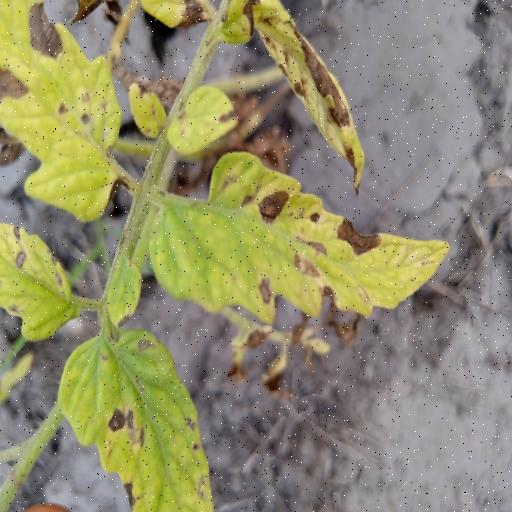Tomato_Brown_Spots: (148, 148, 456, 325), (60, 322, 220, 512), (0, 0, 128, 229), (0, 218, 84, 345)
